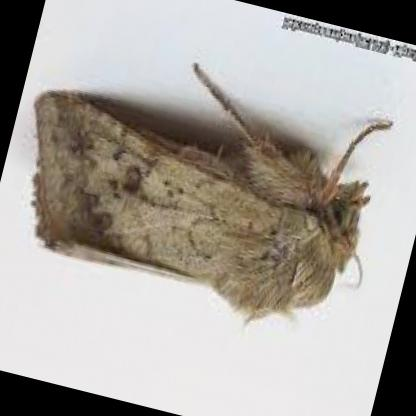helicoverpa: (30, 66, 390, 320)
